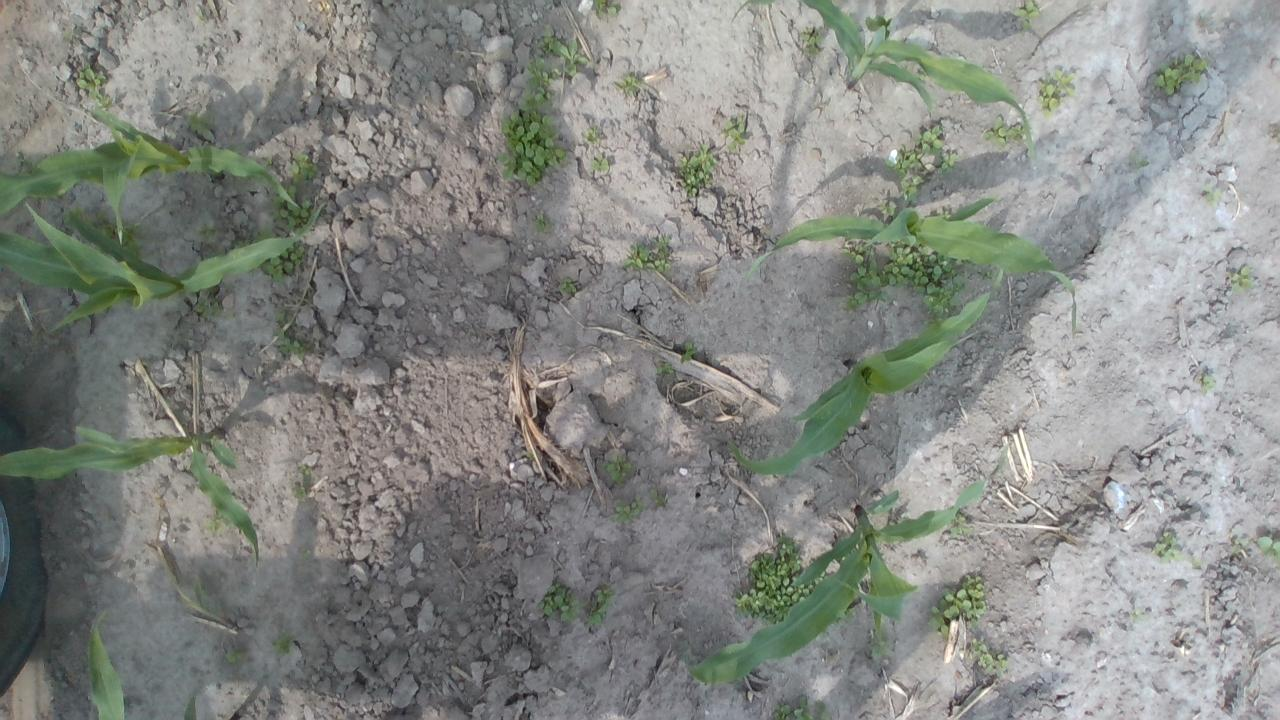Maize: (684, 449, 1010, 688), (723, 286, 992, 480), (742, 195, 1076, 342), (1, 198, 326, 332), (0, 109, 302, 248), (796, 0, 1038, 173), (0, 422, 259, 568), (84, 604, 244, 720)
Weeds: (500, 28, 582, 189), (841, 236, 962, 318), (734, 540, 834, 626), (264, 152, 319, 282), (882, 122, 957, 212), (930, 570, 989, 636), (61, 208, 142, 255), (542, 586, 616, 622), (1150, 54, 1204, 97), (274, 304, 314, 362), (1036, 74, 1074, 116), (681, 151, 717, 194), (629, 242, 680, 272), (982, 114, 1028, 147), (770, 697, 830, 720), (968, 643, 1011, 674), (584, 128, 606, 182), (195, 286, 227, 318), (76, 66, 108, 98), (1256, 534, 1280, 560), (1156, 532, 1178, 560), (610, 503, 636, 526), (602, 460, 631, 480), (188, 120, 212, 144), (723, 122, 745, 148), (595, 1, 622, 22), (1184, 554, 1212, 574), (617, 73, 641, 95), (1231, 534, 1251, 560), (952, 518, 972, 541), (296, 470, 311, 499), (1198, 370, 1216, 394), (1228, 268, 1252, 286), (1016, 0, 1038, 19), (195, 225, 215, 242), (805, 34, 823, 52), (681, 343, 696, 362), (1202, 190, 1220, 205), (557, 279, 576, 293), (210, 513, 223, 532), (228, 654, 248, 666), (274, 636, 290, 650), (535, 216, 547, 232), (659, 362, 672, 375), (1132, 608, 1142, 622)
